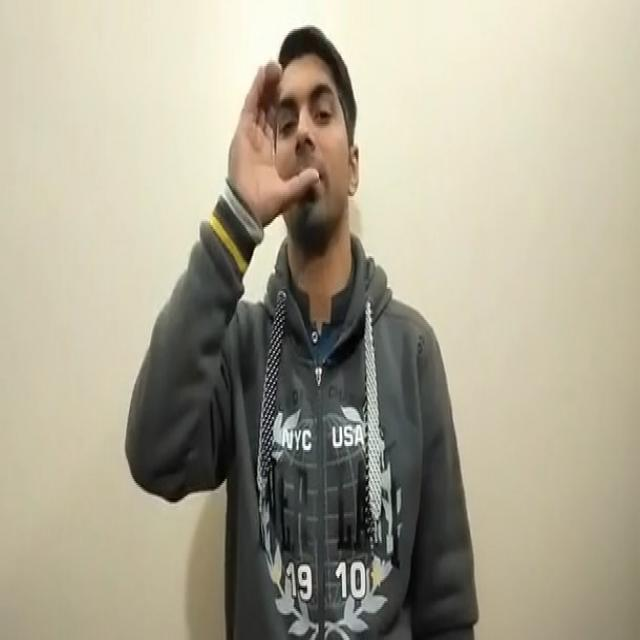drink: (224, 60, 324, 232)
